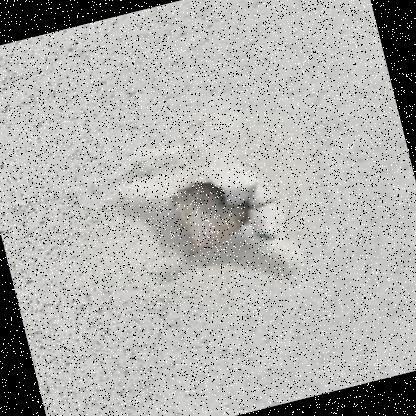Crack: (51, 96, 346, 348)
